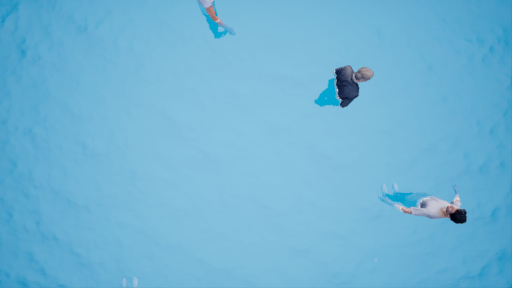person: (382, 173, 471, 226), (313, 62, 375, 114), (189, 2, 244, 40)
